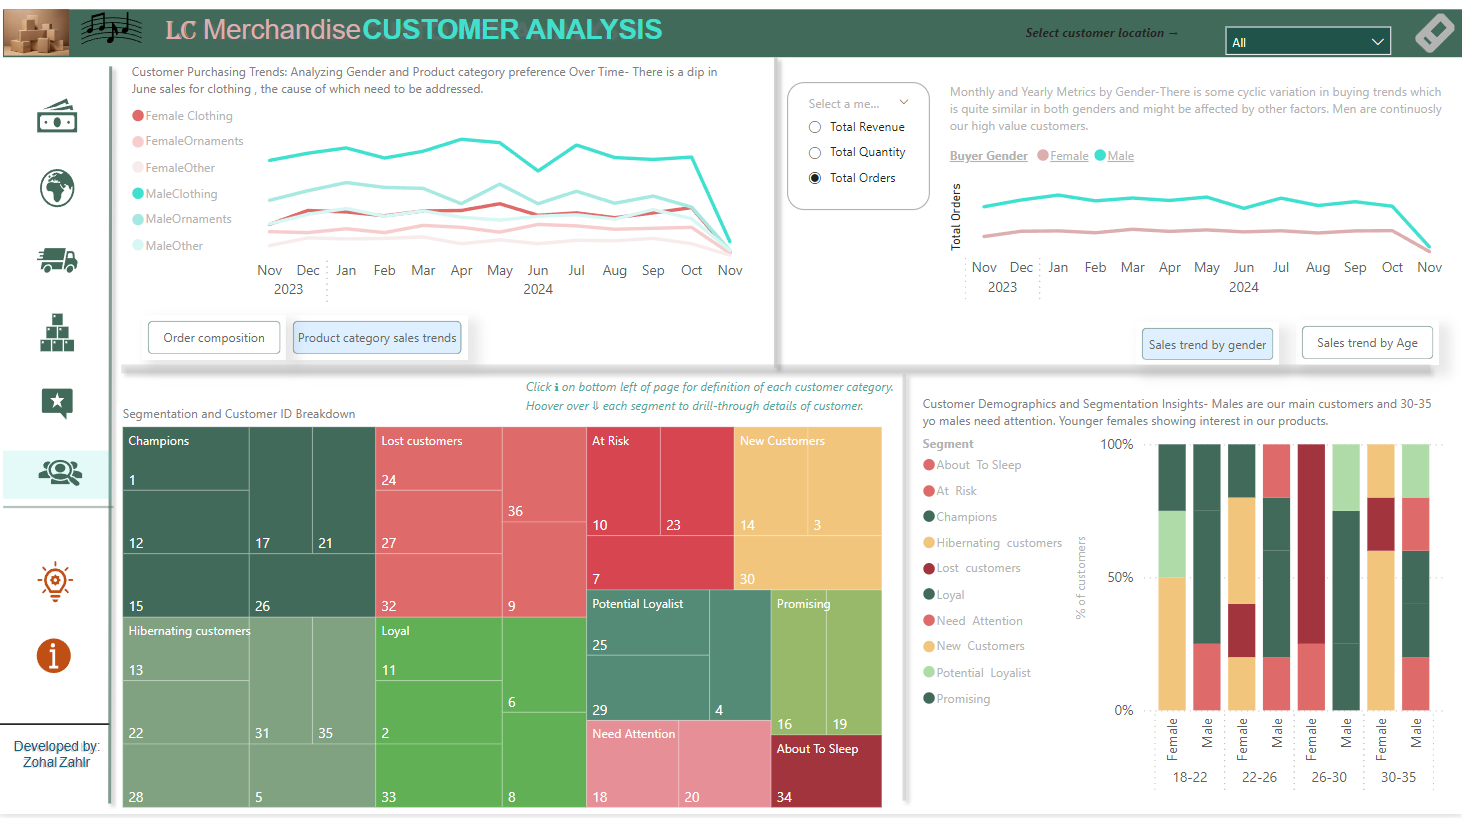

The dashboard page shown, as its layout file describes it:
{"tool":"powerbi","page":{"name":"Customer analysis","canvas":[1280,720],"ordinal":6},"visuals":[{"type":"shape","title":"Active order composition","box":[125.3,283.8,126.3,39.4],"z":1000},{"type":"lineChart","title":"Monthly and Yearly Metrics by Gender-There is some cyclic variation in buying trends which is quite similar in both genders and might be affected by other factors. Men are continuosly our high value c","fields":{"Y":["Measure Table.Total Orders"],"Category":["Calendar Table.Year Hierarchy.Year","Calendar Table.Year Hierarchy.Monthname"],"Series":["Customer Lookup.Buyer Gender"]},"box":[826.3,80.8,442.4,201],"z":2000},{"type":"shape","title":"Inactive Product category sales trends","box":[251.5,283.8,157.6,39.4],"z":3000},{"type":"lineChart","title":"Customer Purchasing Trends: Analyzing Gender and Product category preference Over Time- There is a dip in June sales for clothing , the cause of which need to be addressed.","fields":{"Category":["Calendar Table.Year Hierarchy.Year","Calendar Table.Year Hierarchy.Monthname"],"Y":["Measure Table.Female Clothing","Measure Table.FemaleOrnaments","Measure Table.FemaleOther","Measure Table.MaleClothing","Measure Table.MaleOrnaments","Measure Table.MaleOther"]},"box":[111.1,62.6,546.5,221.2],"z":4000},{"type":"slicer","title":"Select a measure","fields":{"Values":["Business Measures.Business Measures"]},"box":[688.9,80.8,125.3,112.1],"z":6000},{"type":"treemap","title":"Segmentation and Customer ID Breakdown","fields":{"Group":["RFM.Segment    "],"Details":["Customer Lookup.Customer ID"],"Values":["Measure Table.COUNT OF CUSTOMER"]},"box":[103.4,362.4,673.7,357.7],"z":9000},{"type":"hundredPercentStackedColumnChart","title":"Customer Demographics and Segmentation Insights- Males are our main customers and 30-35 yo males need attention. Younger females showing interest in our products.","fields":{"Category":["Customer Lookup.Age bins","Customer Lookup.Buyer Gender"],"Series":["RFM.Segment    "],"Y":["Measure Table.COUNT OF CUSTOMER"]},"box":[803,353.5,465.7,357.6],"z":10000},{"type":"shape","title":"Inactive Sales trend  by Age","box":[1134.3,288.9,125.3,39.4],"z":12000},{"type":"shape","title":"ActiveSales trend  by gender","box":[993.9,289.9,125.3,38.4],"z":13000},{"type":"textbox","box":[455.3,331,509.9,44.1],"z":15000},{"type":"slicer","fields":{"Values":["Geographical Lookup.Order Location"]},"box":[1062.6,22.2,164.6,74.7],"z":16000},{"type":"actionButton","box":[1234.1,16.8,42.3,42.3],"z":17000},{"type":"textbox","box":[892.9,22.2,169.7,37.4],"z":18000},{"type":"shape","title":"Sales OverviewsNavigation","box":[30.2,96.8,43.3,33.3],"z":19000},{"type":"shape","title":"LocationsNavigation","box":[32.3,150.2,41.3,42.3],"z":20000},{"type":"shape","title":"ShipmentNavigation","box":[30.6,404.3,55.2,40],"z":21000},{"type":"shape","title":"ProductNavigator","box":[22.3,271.5,51.7,50.5],"z":22000},{"type":"shape","title":"ShipmentNavigation","box":[30.6,343.2,43.5,38.8],"z":23000},{"type":"shape","title":"ShipmentNavigation","box":[22.3,218.6,51.7,38.8],"z":24000},{"type":"shape","title":"InsightsNavigation","box":[25.9,489,43.5,54.1],"z":25000},{"type":"shape","title":"Zohal Linkedin link","box":[8.2,652.3,79.9,51.7],"z":26000},{"type":"textbox","title":"RFM Category definictions","box":[99.9,16.3,1169.7,694.6],"z":27000},{"type":"shape","title":"Bookmark shape RFM","box":[20.8,562.9,59.8,50],"z":28000},{"type":"shape","title":"Back shape","box":[1201.9,22.1,49,44.2],"z":29500}]}

Visuals, with their boxes on the page's 1280x720 design canvas (x1, y1, x2, y2). These are canvas units, not pixel positions in the 1462x818 screenshot, which may show the page scaled, cropped or inside an application window:
"Active order composition" shape: box(125, 284, 252, 323)
"Monthly and Yearly Metrics by Gender-There is some cyclic variation in buying trends which is quite similar in both genders and might be affected by other factors. Men are continuosly our high value c" lineChart: box(826, 81, 1269, 282)
"Inactive Product category sales trends" shape: box(252, 284, 409, 323)
"Customer Purchasing Trends: Analyzing Gender and Product category preference Over Time- There is a dip in June sales for clothing , the cause of which need to be addressed." lineChart: box(111, 63, 658, 284)
"Select a measure" slicer: box(689, 81, 814, 193)
"Segmentation and Customer ID Breakdown" treemap: box(103, 362, 777, 720)
"Customer Demographics and Segmentation Insights- Males are our main customers and 30-35 yo males need attention. Younger females showing interest in our products." hundredPercentStackedColumnChart: box(803, 354, 1269, 711)
"Inactive Sales trend  by Age" shape: box(1134, 289, 1260, 328)
"ActiveSales trend  by gender" shape: box(994, 290, 1119, 328)
textbox: box(455, 331, 965, 375)
slicer - Geographical Lookup.Order Location: box(1063, 22, 1227, 97)
actionButton: box(1234, 17, 1276, 59)
textbox: box(893, 22, 1063, 60)
"Sales OverviewsNavigation" shape: box(30, 97, 74, 130)
"LocationsNavigation" shape: box(32, 150, 74, 192)
"ShipmentNavigation" shape: box(31, 404, 86, 444)
"ProductNavigator" shape: box(22, 272, 74, 322)
"ShipmentNavigation" shape: box(31, 343, 74, 382)
"ShipmentNavigation" shape: box(22, 219, 74, 257)
"InsightsNavigation" shape: box(26, 489, 69, 543)
"Zohal Linkedin link" shape: box(8, 652, 88, 704)
"RFM Category definictions" textbox: box(100, 16, 1270, 711)
"Bookmark shape RFM" shape: box(21, 563, 81, 613)
"Back shape" shape: box(1202, 22, 1251, 66)
